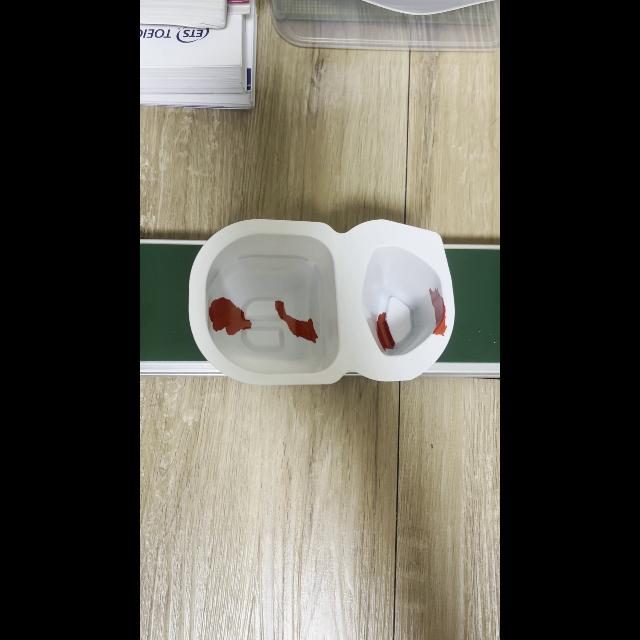dirty: (192, 218, 452, 382)
